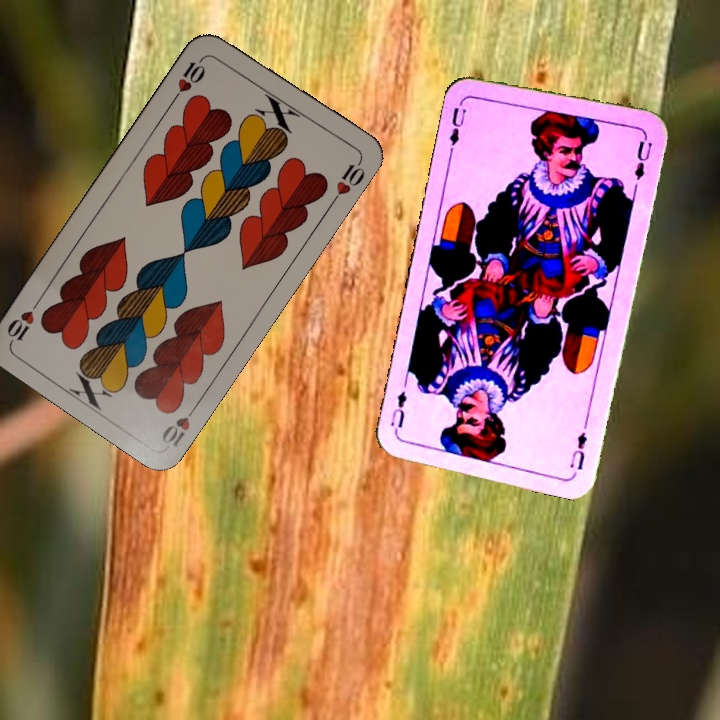EU: (445, 103, 469, 152), (565, 428, 590, 473)
H10: (157, 398, 202, 450), (169, 51, 209, 104)
